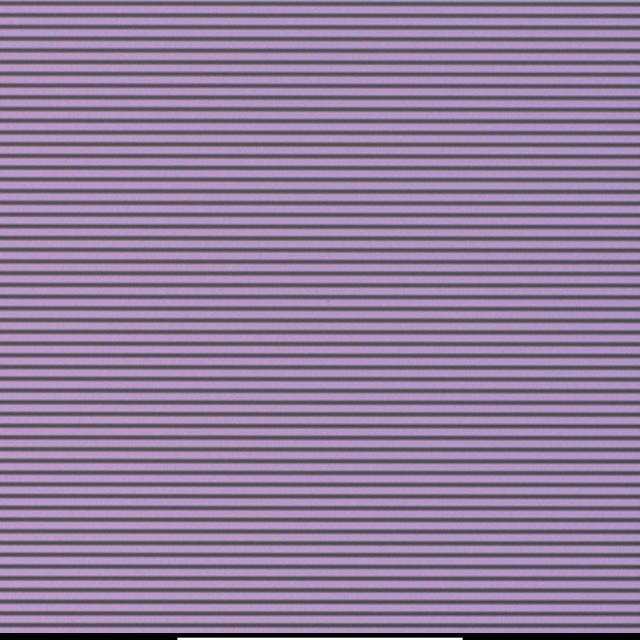nonvisual: (326, 296, 332, 305)
